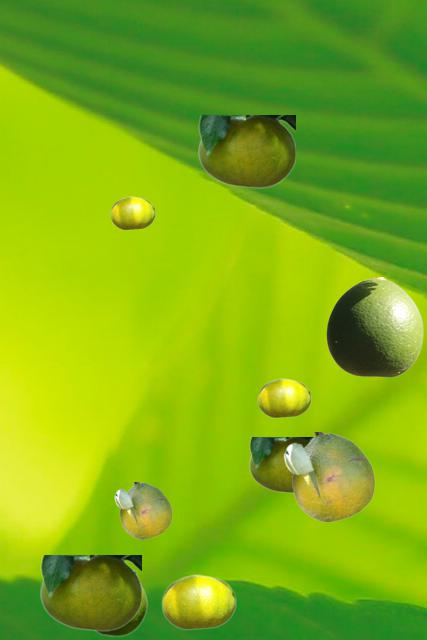dalandan: (326, 277, 422, 376), (283, 432, 374, 521), (40, 555, 140, 630), (198, 115, 294, 187), (161, 574, 235, 629), (95, 569, 147, 636), (249, 437, 311, 492), (114, 482, 171, 538), (257, 378, 310, 417), (110, 196, 154, 229)
